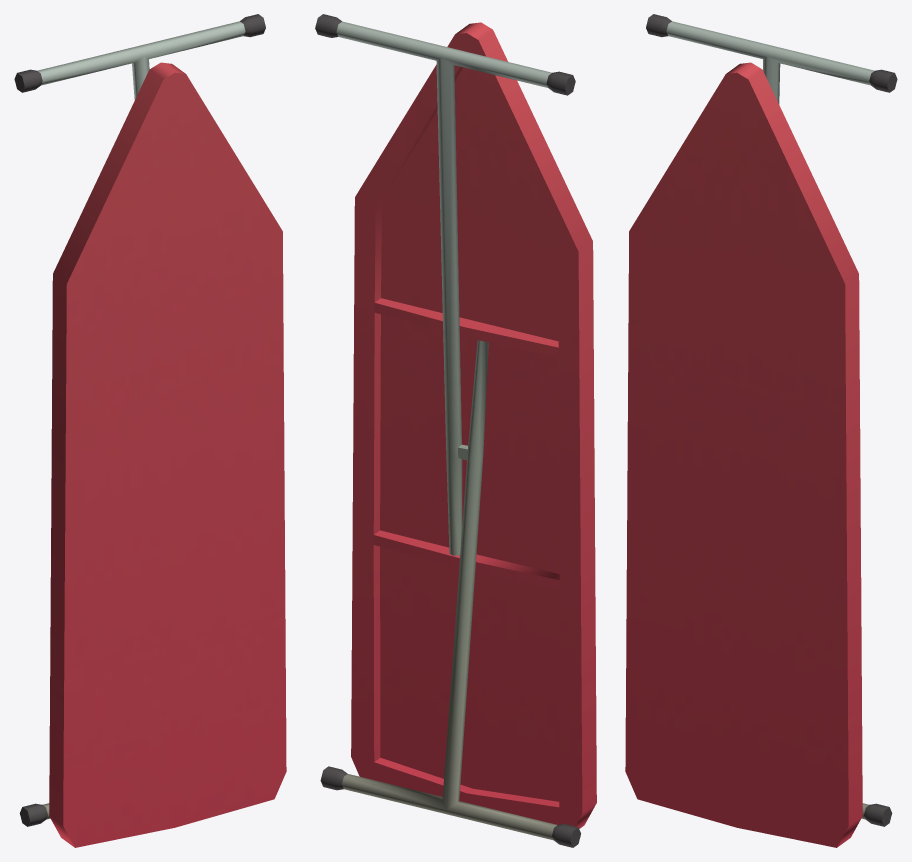
The model's file is SM_Ironing_Board_1_05.fbx.
3 renders of one model, left to right at view 1: azimuth 30°, elevation 25°; view 2: azimuth 150°, elevation 25°; view 3: azimuth 330°, elevation 25°, orthographic. The views are drawn at different scales.
Visible parts, largest first — view 1: SM_Ironing_Board_1_05; view 2: SM_Ironing_Board_1_05; view 3: SM_Ironing_Board_1_05.
Boxes of the visible parts, box(x1,y1,x2,y2) form: SM_Ironing_Board_1_05: box(14, 14, 286, 847); SM_Ironing_Board_1_05: box(315, 14, 596, 847); SM_Ironing_Board_1_05: box(625, 14, 897, 847).
Bounding box in the file's own units: 56.59 × 170 × 16.13.
